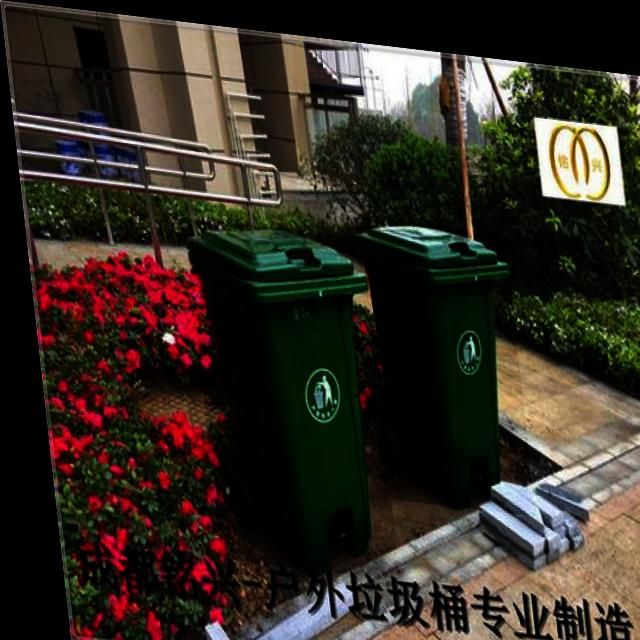garbage_bin: (179, 214, 388, 572), (350, 209, 525, 504)
